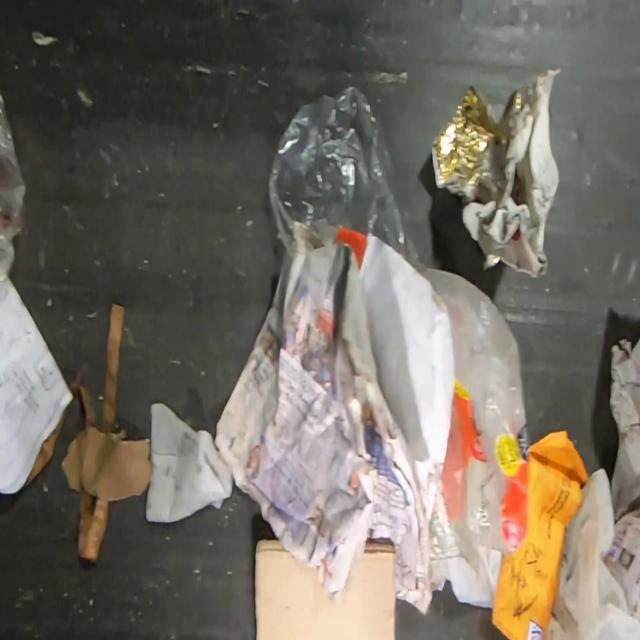cardboard: (254, 540, 396, 640)
soft_plastic: (266, 84, 531, 554), (0, 78, 27, 291)
